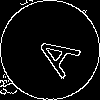A: (25, 25, 82, 79)
